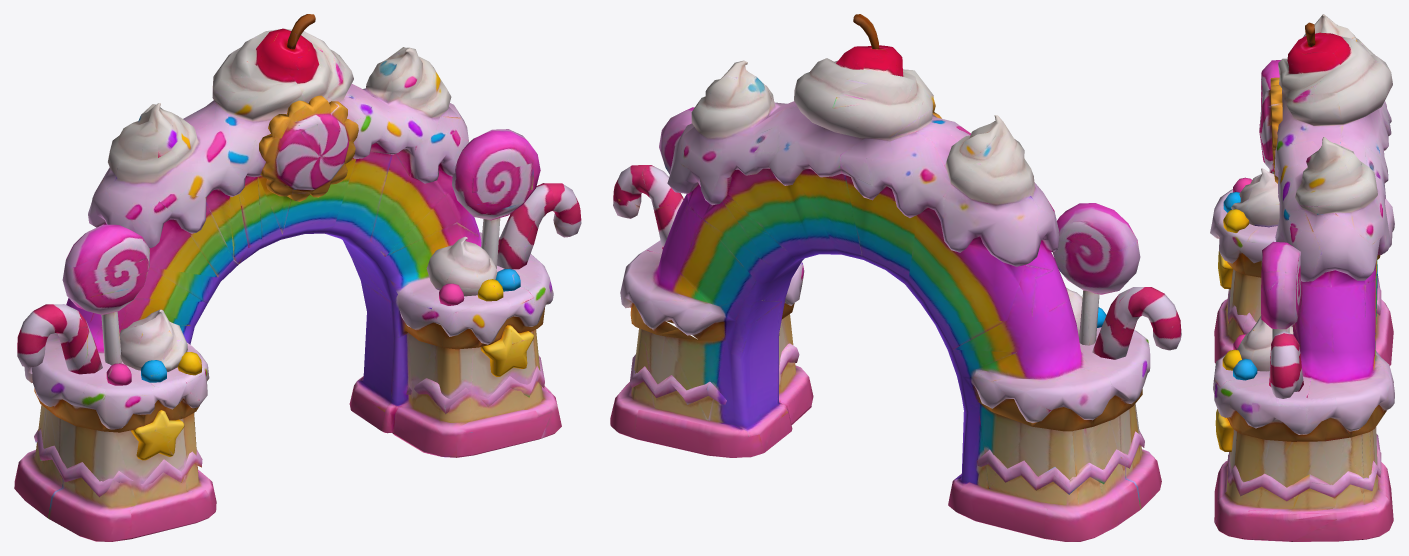
File: rainbow_gate.glb
3 views of the same model, side by side, from view 1: azimuth 30°, elevation 25°; view 2: azimuth 150°, elevation 25°; view 3: azimuth 270°, elevation 25° (orthographic). The views are drawn at different scales.
Size of what is drawn, in the model's own units: 1.36 by 1 by 0.4032.
Materials: 1 (1 with a texture image).
